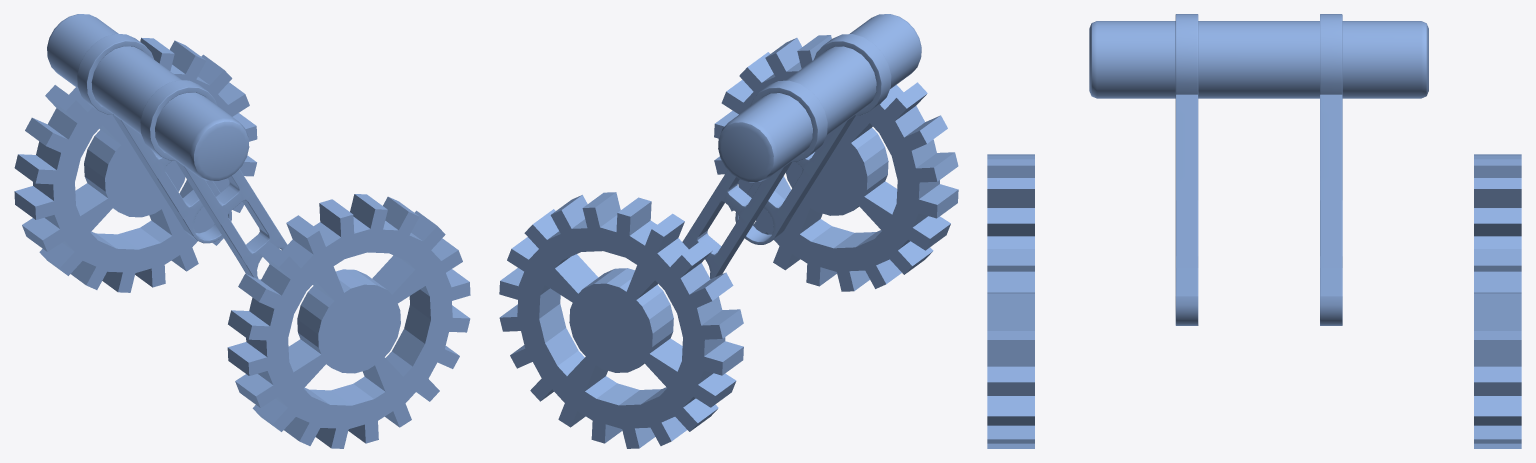
Rendered from Generator_Switch.fbx.
The picture shows the model from 3 angles, left to right: view 1: azimuth 30°, elevation 25°; view 2: azimuth 150°, elevation 25°; view 3: azimuth 270°, elevation 25°; orthographic projection. The views are drawn at different scales.
Parts seen in each view (by area): view 1: Switch_Gear_low1; view 2: Switch_Gear_low1; view 3: Switch_Gear_low1.
Boxes of the visible parts, x1,y1,x2,y2 form: Switch_Gear_low1: (14, 14, 470, 448); Switch_Gear_low1: (499, 14, 958, 448); Switch_Gear_low1: (987, 14, 1521, 448).
Size of the model in its own units: 28.41 by 36.42 by 48.42.
